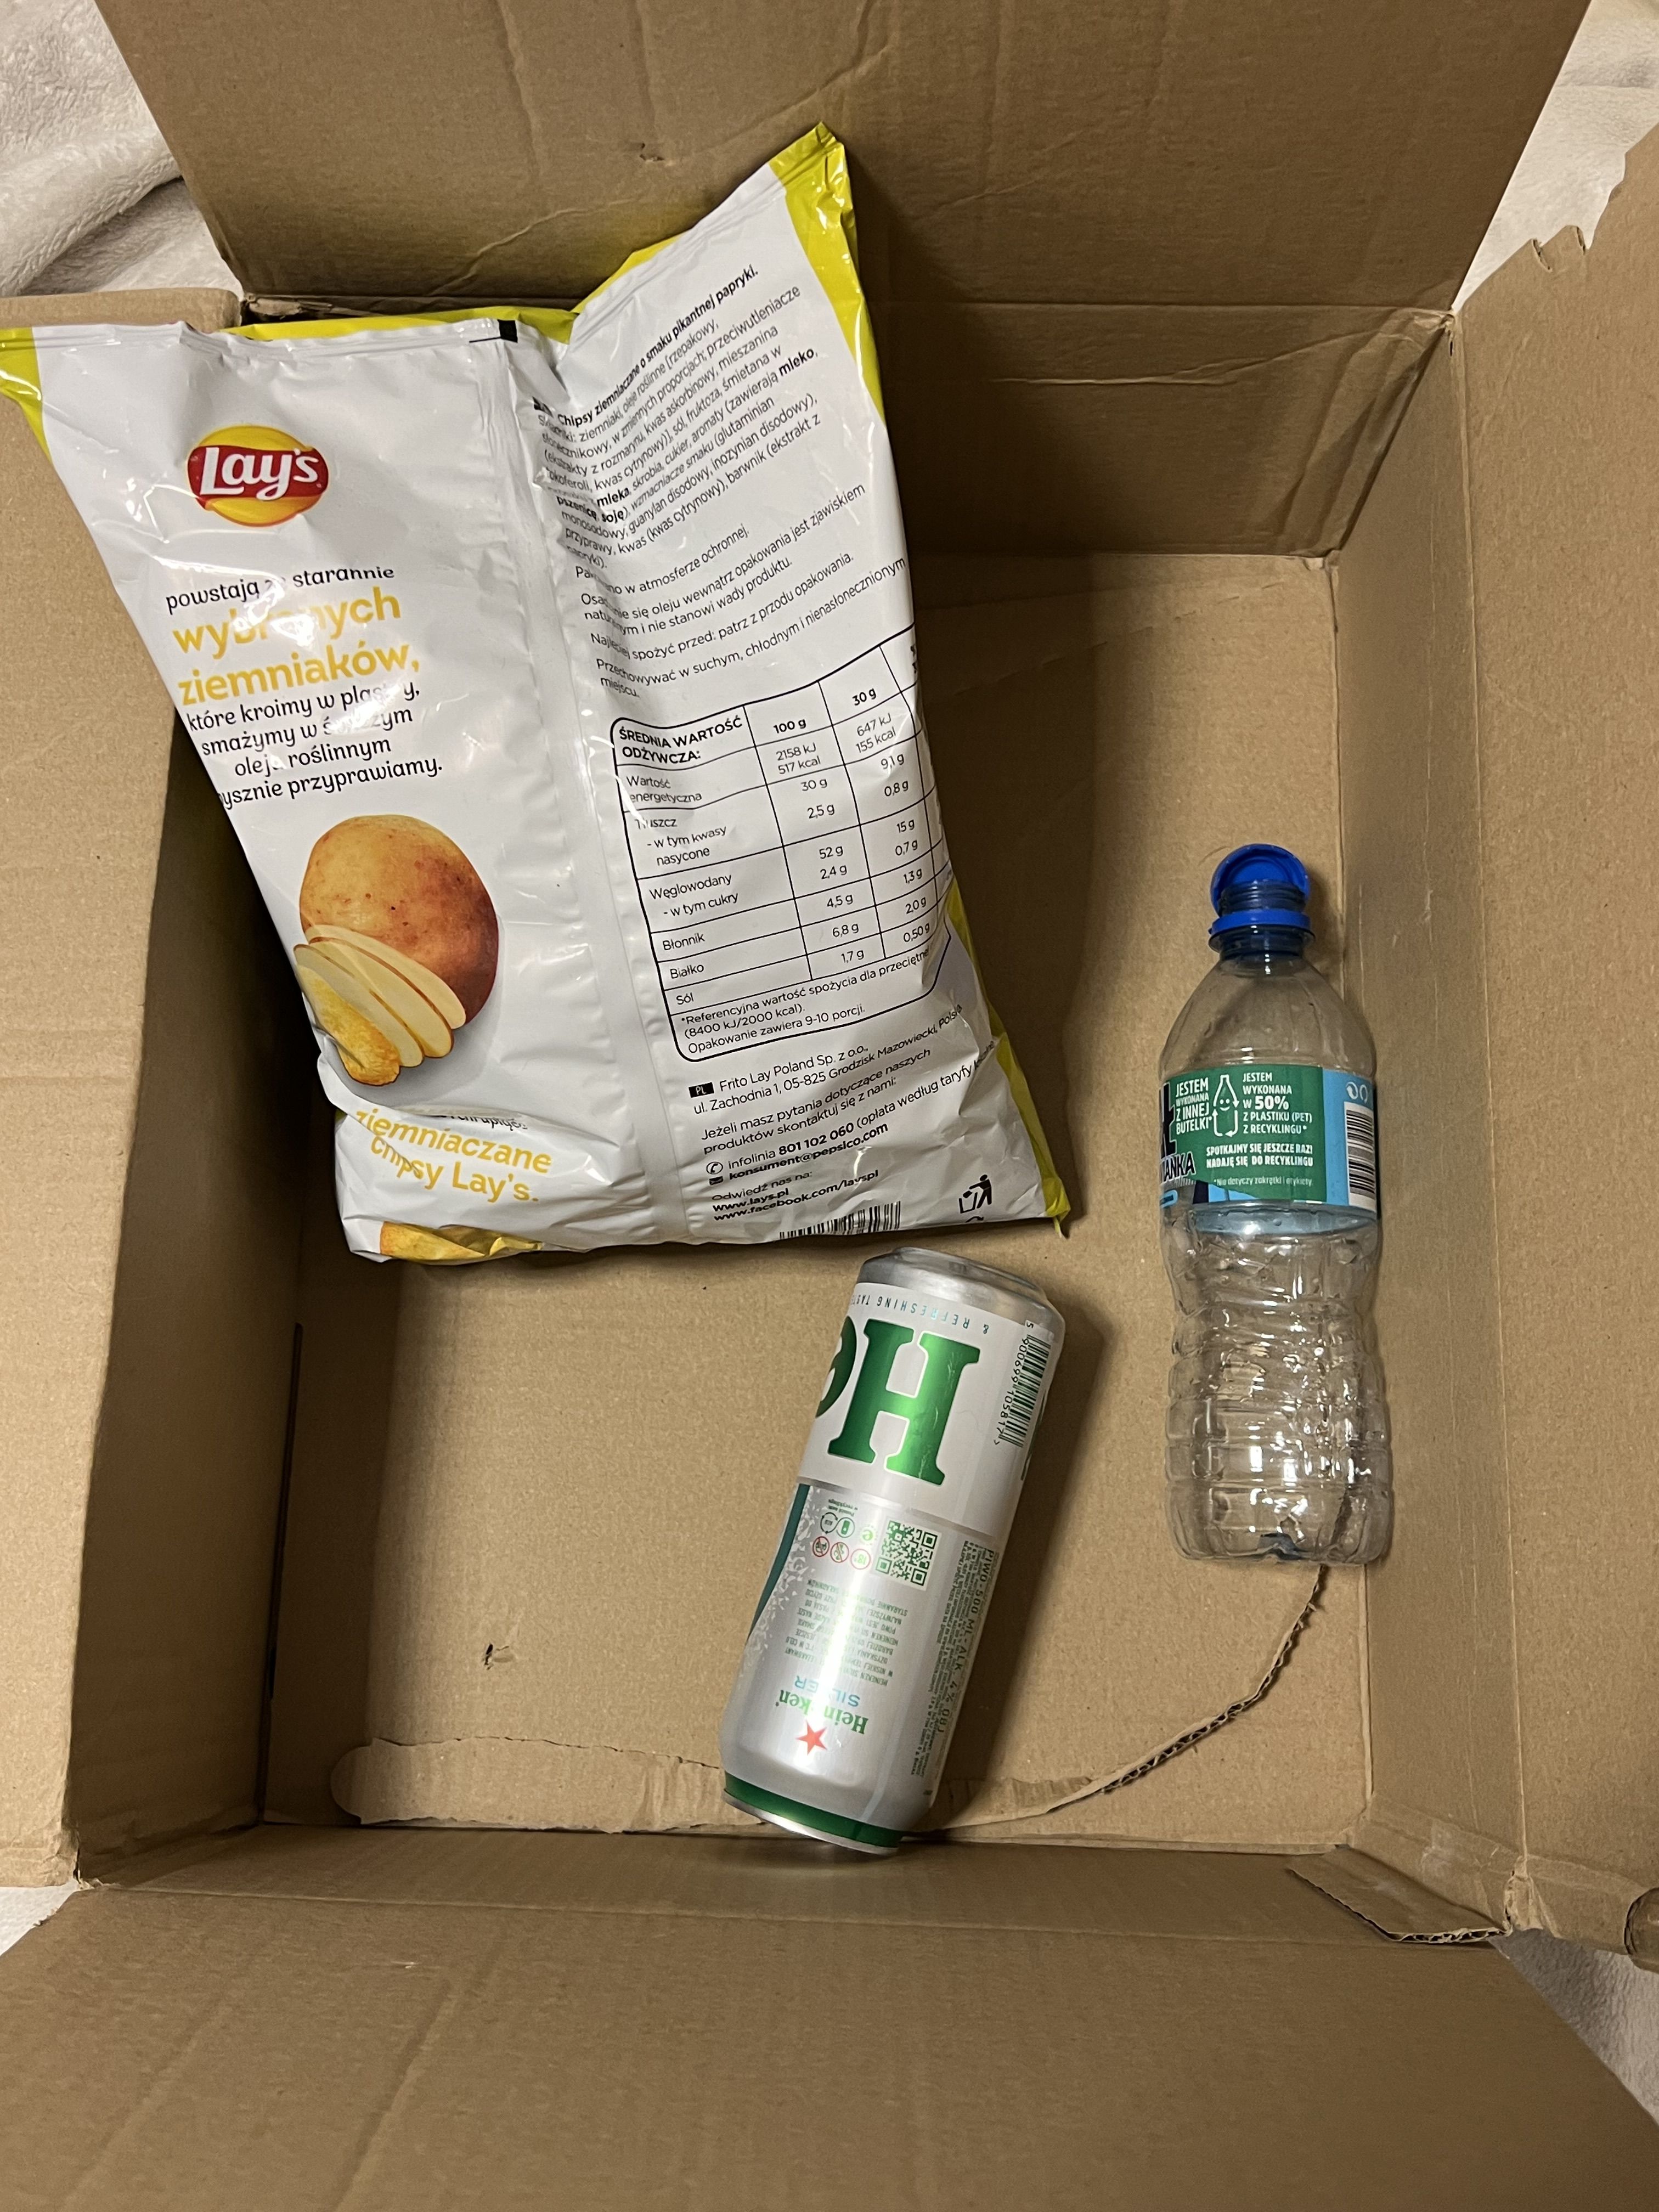CARDBOARD: (2, 5, 1659, 2212), (2, 225, 936, 1331)
METAL: (1148, 843, 1403, 1571)
PLASTIC: (866, 1230, 1096, 1843)
